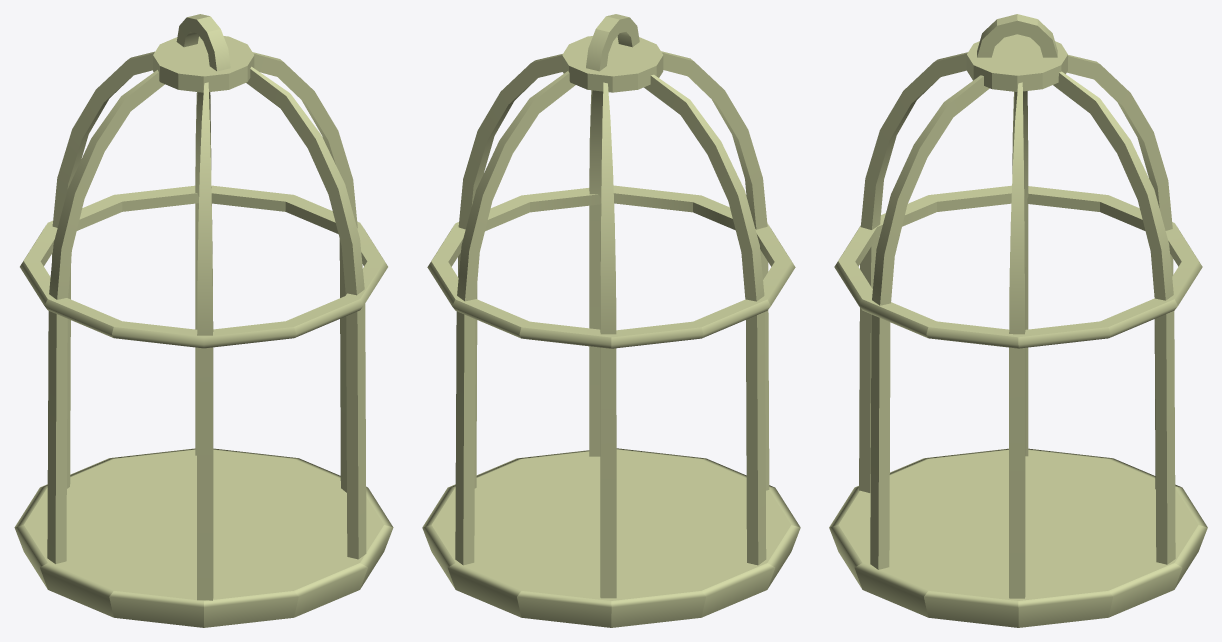
File: Cage_Small_01A_Lod0.fbx
3 views of the same model, side by side, from view 1: azimuth 30°, elevation 25°; view 2: azimuth 150°, elevation 25°; view 3: azimuth 270°, elevation 25° (orthographic).
Parts seen in each view (by area): view 1: Cage_Small_01A_Lod0; view 2: Cage_Small_01A_Lod0; view 3: Cage_Small_01A_Lod0.
Boxes of the visible parts, bbox=[...] form: Cage_Small_01A_Lod0: bbox=[14, 14, 393, 627]; Cage_Small_01A_Lod0: bbox=[422, 14, 800, 627]; Cage_Small_01A_Lod0: bbox=[829, 14, 1207, 627].
Bounding box in the file's own units: 49.69 × 77.3 × 49.69.
